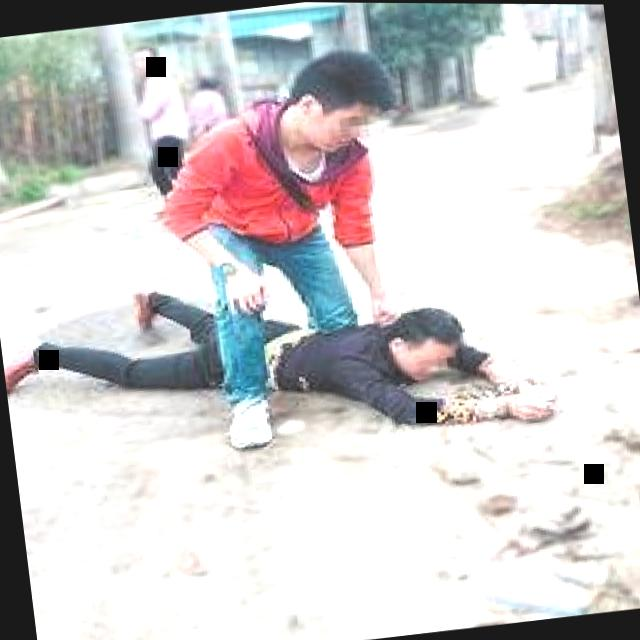Fall-Detected: (0, 227, 558, 468)
